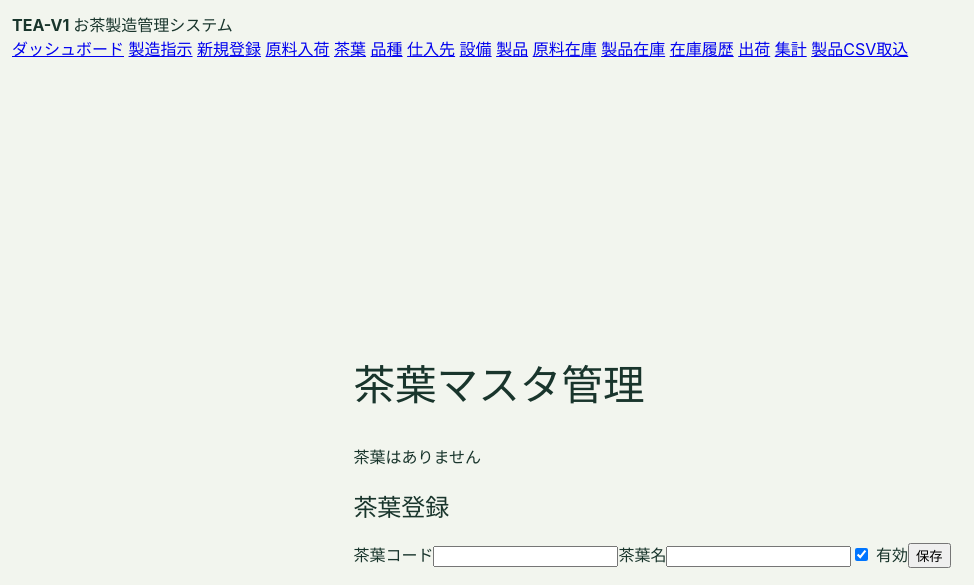
Scenario: マスタを登録し送信中は連続操作を防ぐ
Check: the text "茶葉はありません" is shown, box left=353, top=447, right=481, bottom=467
Type "TL-02" into the field labelled "茶葉コード".
click(526, 557); type("TL-02")  # box left=433, top=546, right=618, bottom=567
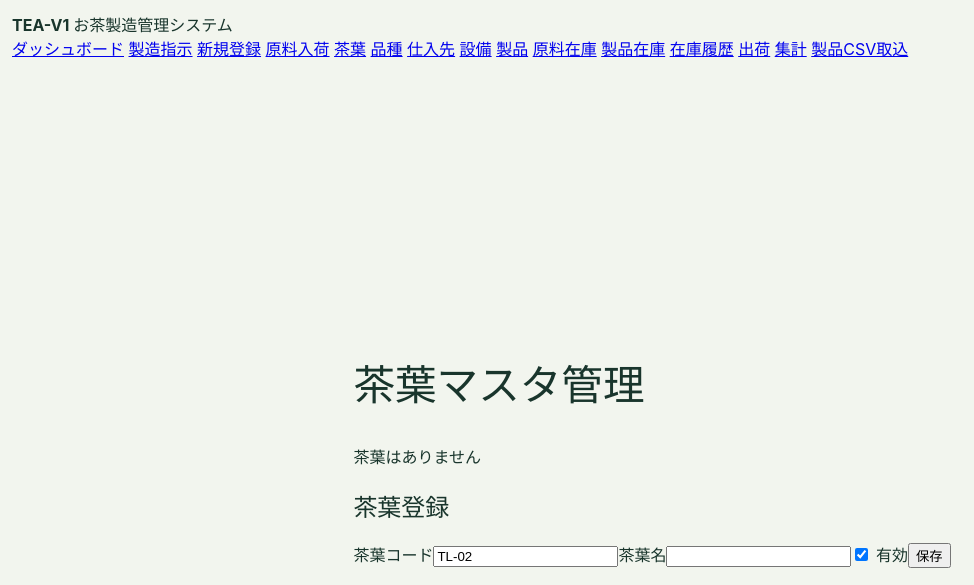
Type "玉露" into the field labelled "茶葉名".
click(759, 557); type("玉露")  # box left=666, top=546, right=851, bottom=567
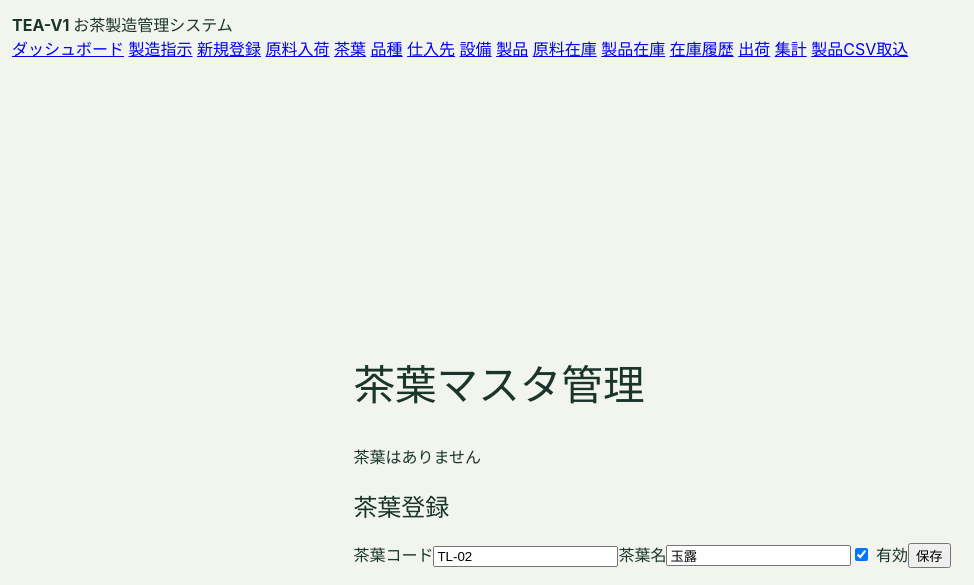
Click the button "保存".
click(929, 556)  # box left=908, top=543, right=951, bottom=568
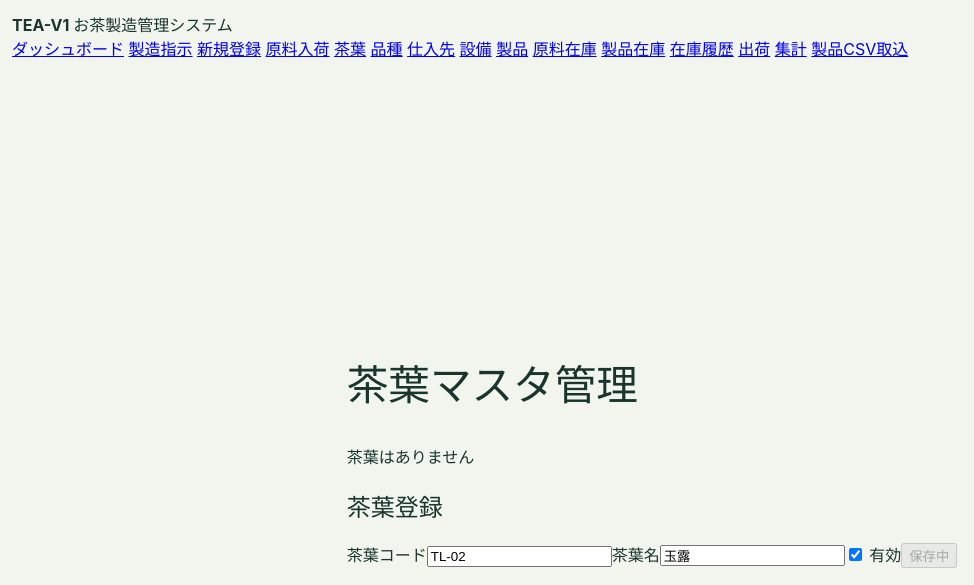
Check: the button "保存中" is disabled, box left=901, top=543, right=957, bottom=568
